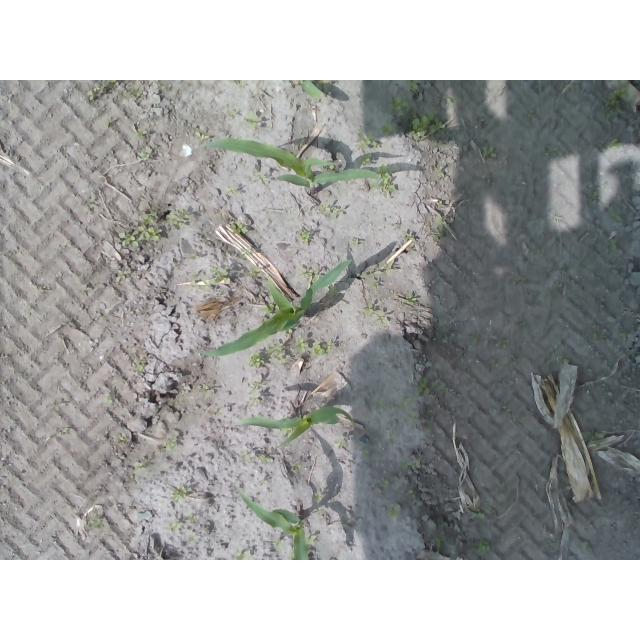Maize: (200, 259, 352, 358), (208, 137, 380, 196), (235, 488, 310, 561), (235, 404, 354, 449), (297, 80, 323, 100)
Weeds: (383, 94, 454, 146), (119, 207, 194, 253), (249, 338, 333, 368), (167, 513, 201, 544), (376, 164, 401, 199), (412, 376, 449, 397), (89, 81, 119, 104), (606, 89, 628, 120), (360, 134, 381, 165), (249, 375, 272, 402), (360, 306, 389, 326), (432, 319, 451, 345), (204, 267, 229, 285), (317, 202, 342, 219), (554, 350, 579, 367), (431, 223, 449, 243), (470, 506, 490, 523), (299, 266, 319, 283), (360, 272, 380, 288), (584, 430, 605, 444), (475, 541, 493, 557), (387, 502, 402, 521), (464, 334, 481, 350), (400, 461, 417, 476), (480, 145, 497, 160), (608, 137, 625, 151), (171, 487, 188, 501), (192, 128, 211, 140), (592, 331, 608, 345), (247, 114, 261, 130), (501, 402, 514, 419), (231, 222, 248, 234), (233, 549, 251, 560), (361, 447, 375, 461), (401, 398, 416, 411), (335, 438, 350, 451), (609, 210, 623, 223), (132, 359, 144, 374), (404, 488, 419, 500), (112, 432, 127, 444), (87, 518, 104, 528), (116, 270, 129, 283), (134, 460, 147, 473), (372, 398, 385, 410), (406, 80, 419, 92), (381, 263, 395, 274), (432, 535, 446, 546), (609, 239, 620, 253), (591, 187, 602, 201), (225, 183, 240, 193), (403, 231, 418, 241), (380, 478, 392, 490), (199, 382, 210, 394), (130, 87, 142, 98), (273, 539, 284, 551), (164, 438, 176, 449), (299, 230, 310, 242), (248, 267, 260, 276), (260, 456, 272, 465), (230, 80, 247, 86), (406, 295, 417, 304), (306, 535, 315, 546), (141, 153, 151, 162), (90, 199, 98, 210), (227, 111, 238, 119), (137, 128, 145, 138), (313, 492, 323, 500), (351, 240, 360, 248), (242, 249, 249, 253)
